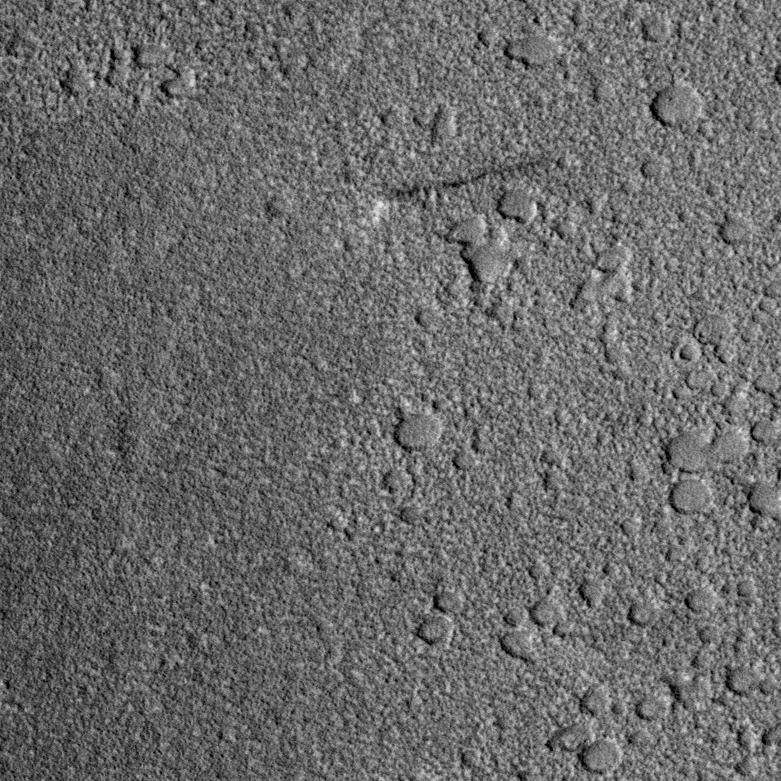dust_devil: (368, 153, 551, 229)
